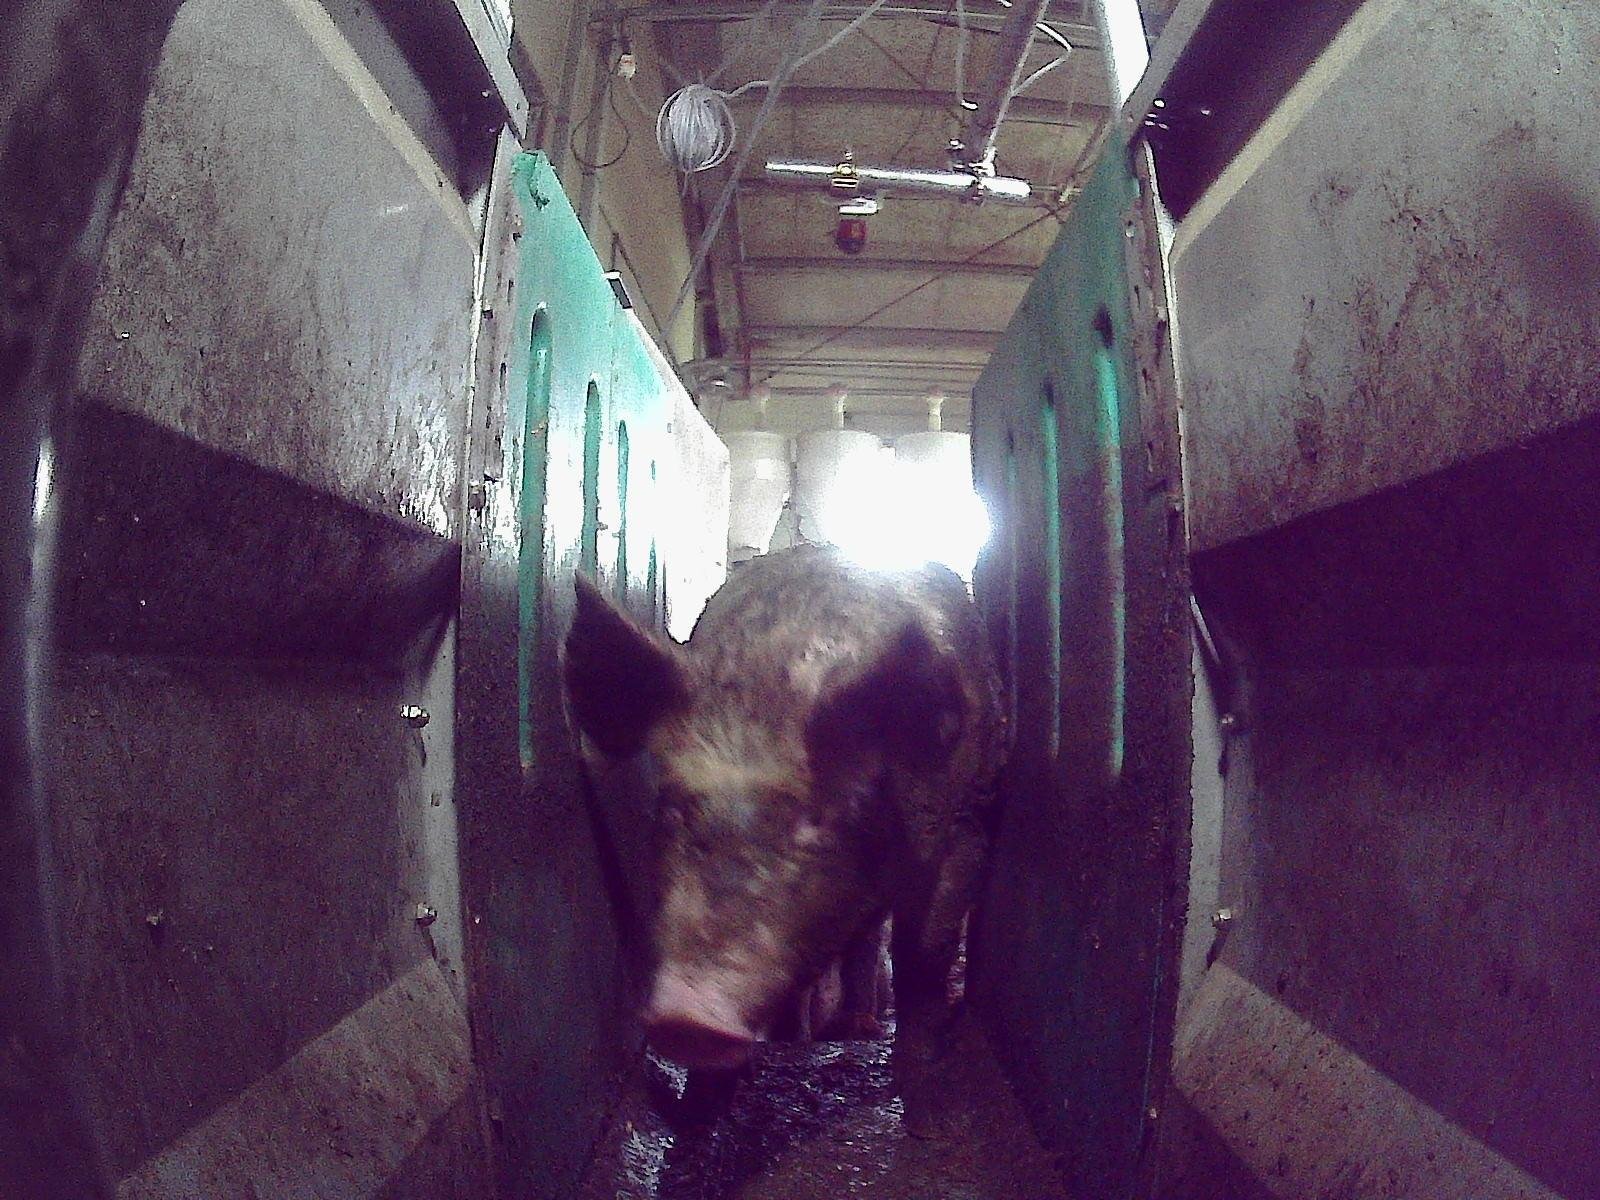Face: (628, 702, 875, 1072)
